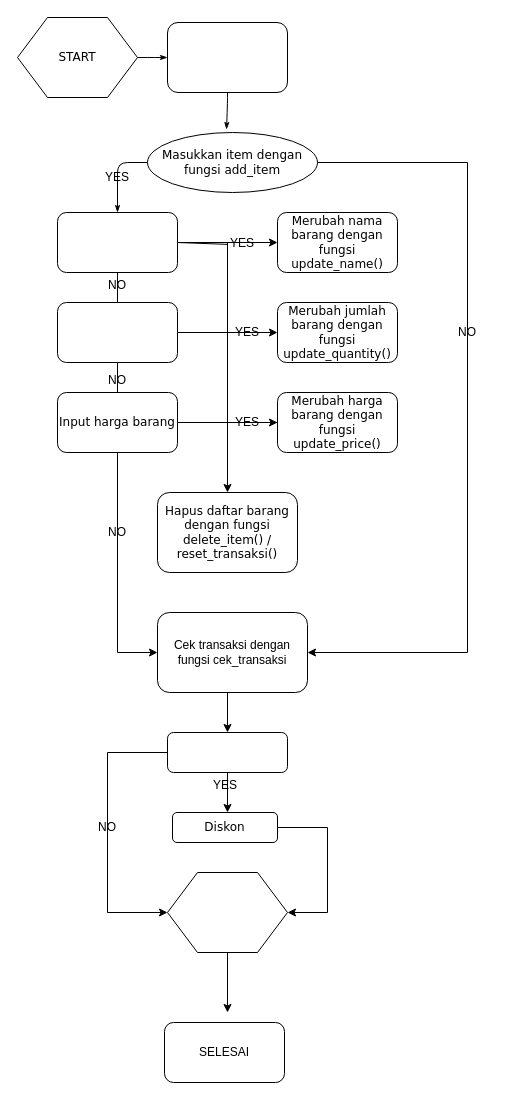
Image size: 515x1100. Some labels were removed from this diagram. Each missing label, with the centre of its shape:
"Fungsi total transaksi total_price()" belongs at (227,912).
"Input jumlah barang" belongs at (117,332).
"Input nama barang" belongs at (117,242).
"Membuat ID dengan class transaction" belongs at (227,57).
"Menghitung total harga" belongs at (227,752).
